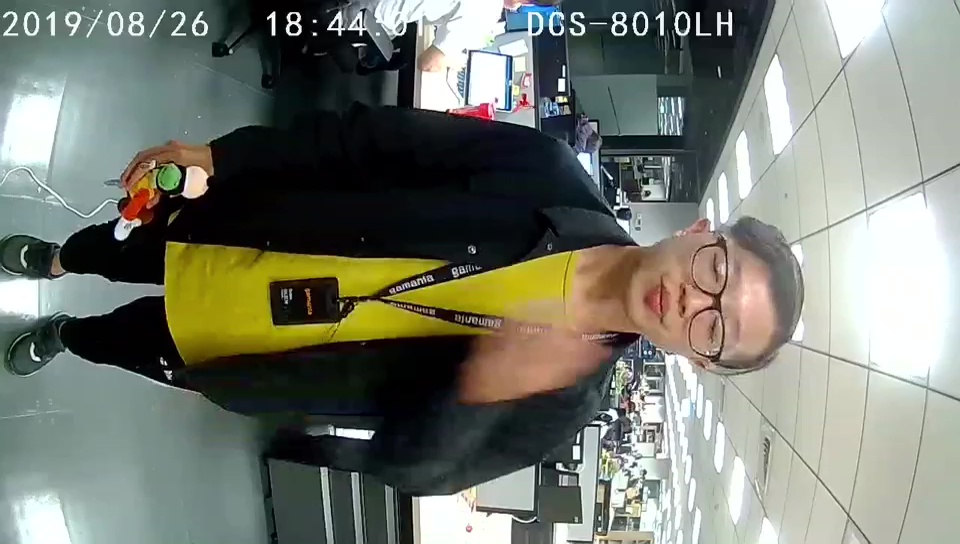goofy: (113, 160, 211, 244)
